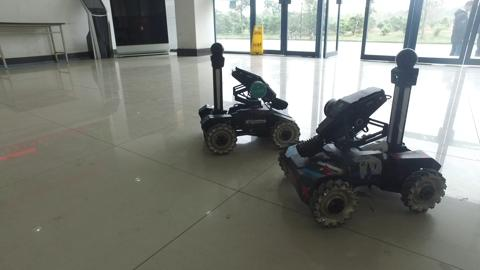chariot: (270, 44, 456, 230), (191, 43, 303, 156)
